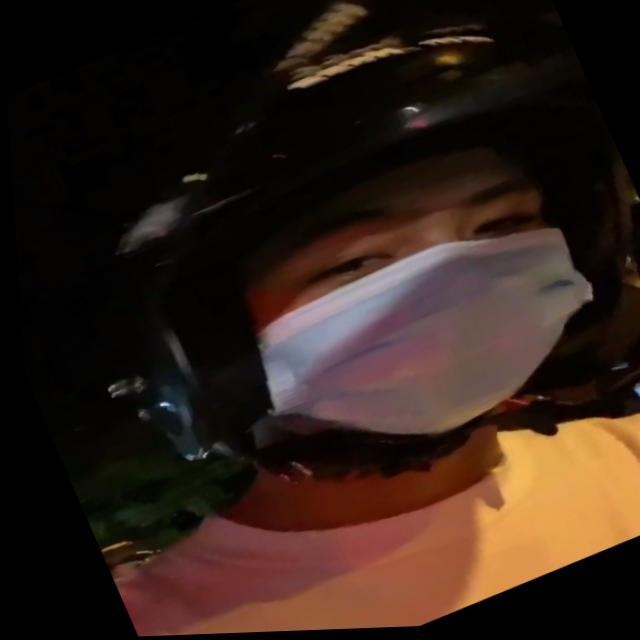Helmet: (113, 5, 632, 486)
